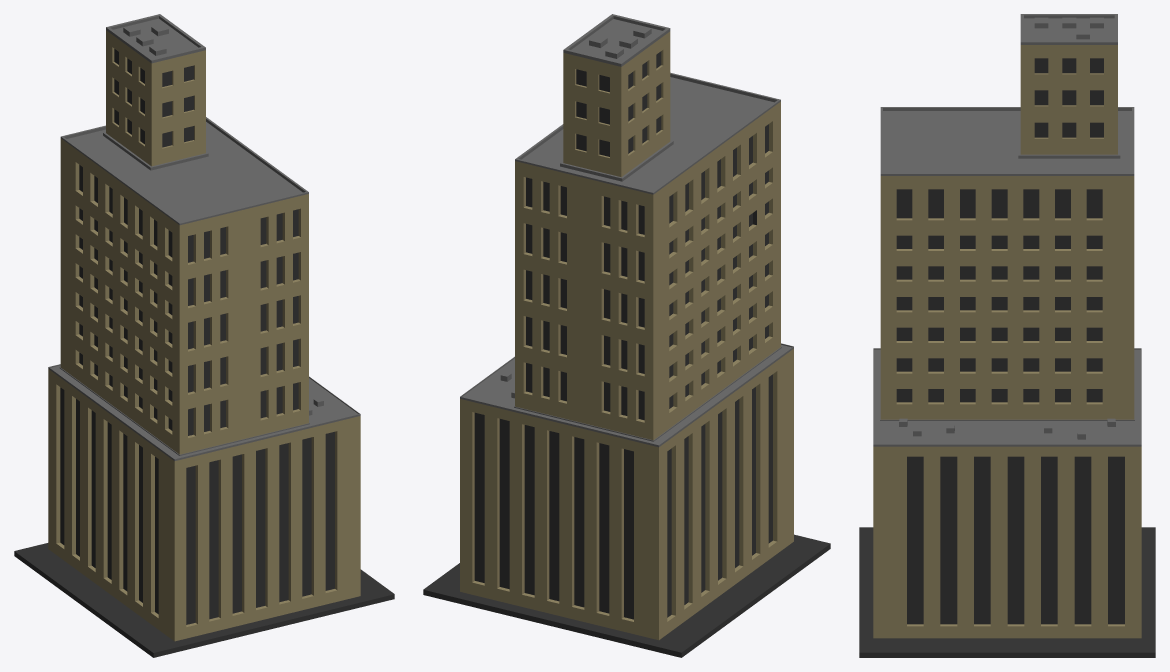
3 views of the same model, side by side, from view 1: azimuth 30°, elevation 25°; view 2: azimuth 150°, elevation 25°; view 3: azimuth 270°, elevation 25° (orthographic). The views are drawn at different scales.
Parts seen in each view (by area): view 1: Cube.018, Floor.011; view 2: Cube.018, Floor.011; view 3: Cube.018, Floor.011.
Part boxes in pixels (x1,y1,x2,y2): Cube.018: (48,14,360,641); Floor.011: (14,543,394,657); Cube.018: (460,14,793,640); Floor.011: (423,534,830,657); Cube.018: (873,14,1141,638); Floor.011: (859,527,1155,657).
Size of the model in its own units: 800 by 1665 by 800.
